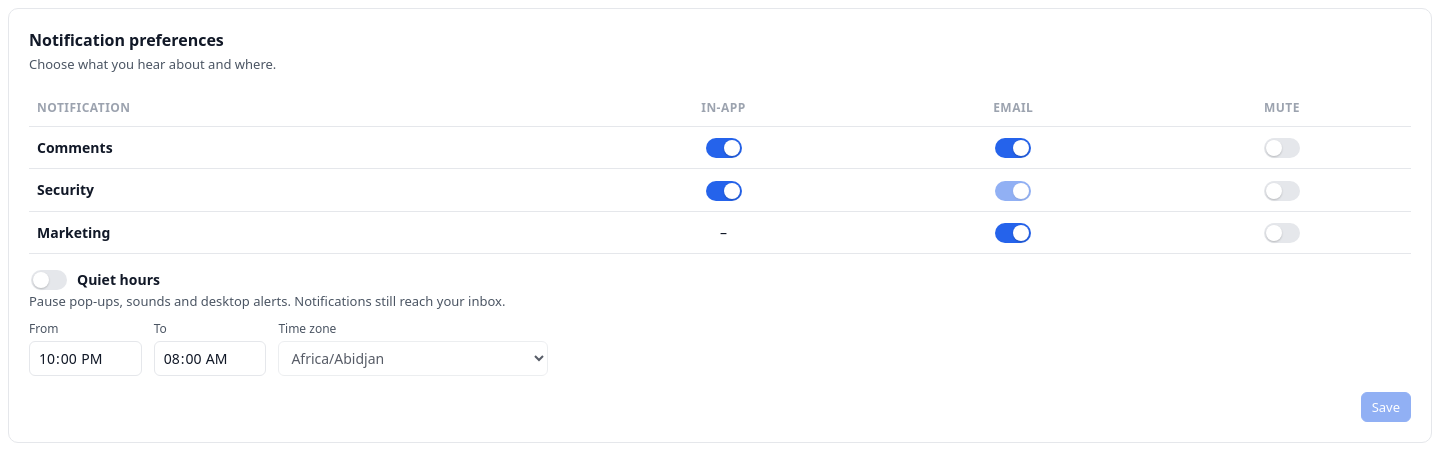
Test: <NotificationPreferences /> › toggles switches and disables locked ones
The image size is (1440, 460).
Click the switch named "Comments – Email": (1013, 148) [995,138,1031,158]
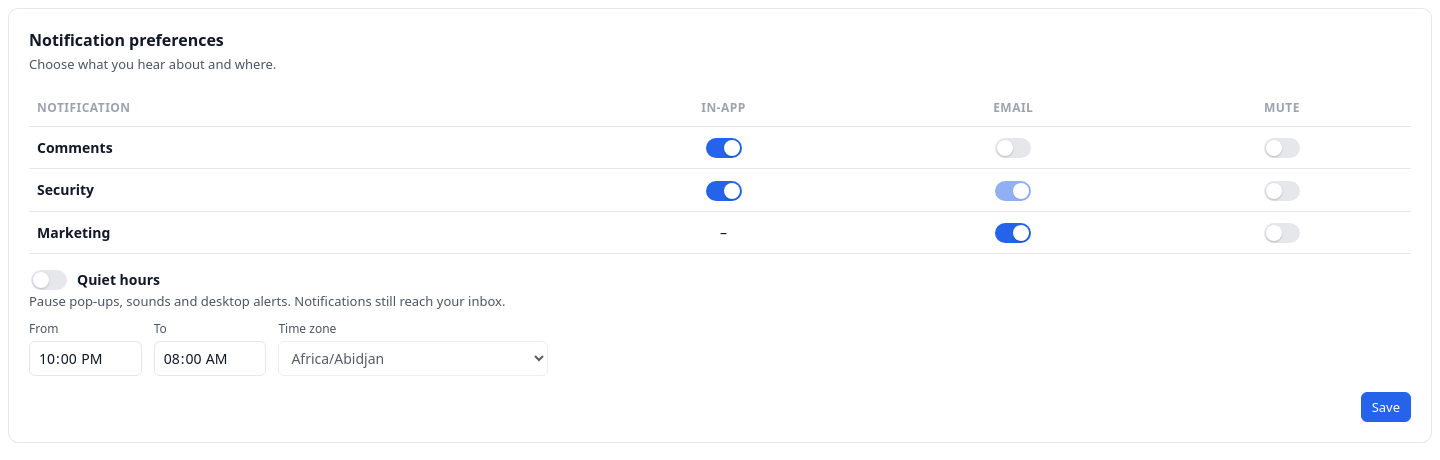
Check: the switch named "Security – Email (Required)" is disabled, box [995,180,1031,200]
Check: the switch named "Comments – Email" is not checked, box [995,138,1031,158]
Click the button "Save": (1386, 407) [1361,392,1411,422]
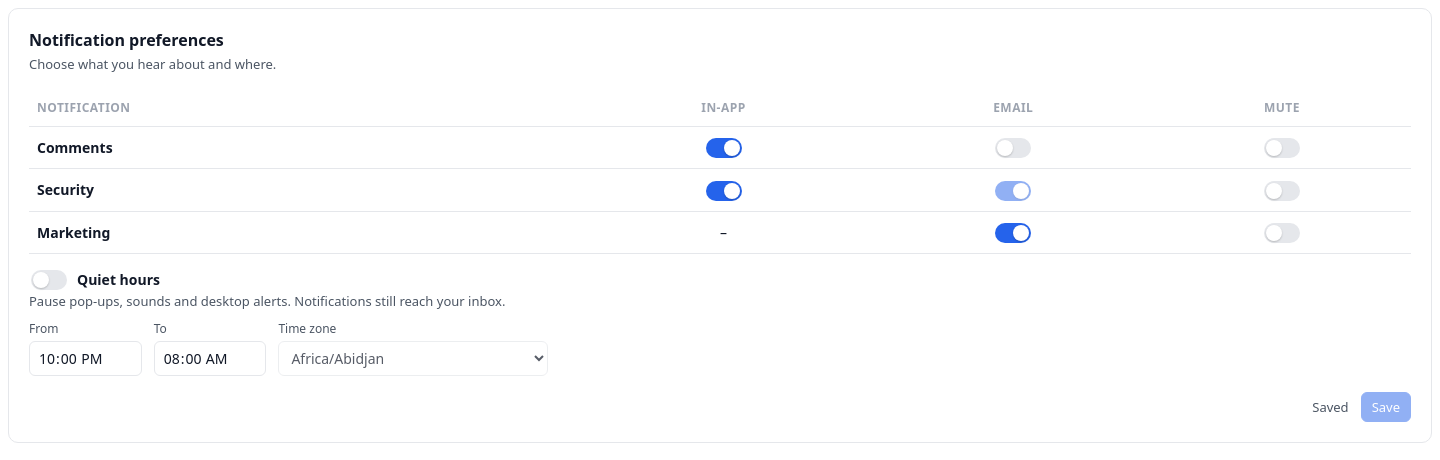
Check: the text "Saved" is shown, box [1312,398,1349,416]
